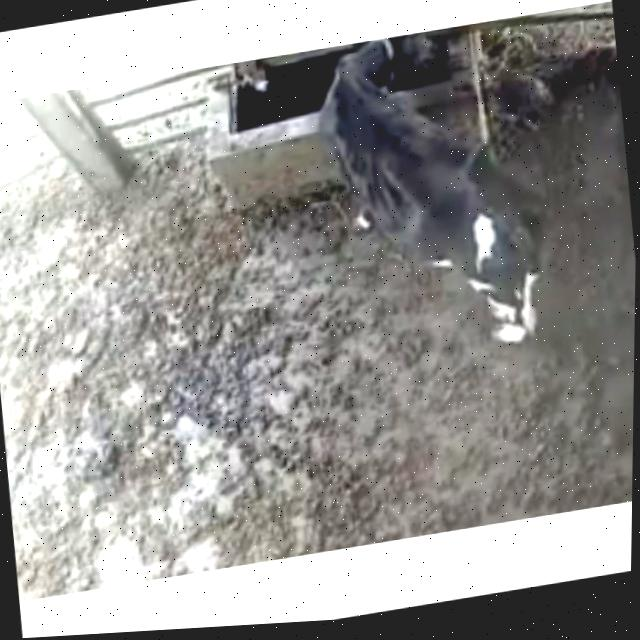drink: (291, 28, 451, 147)
